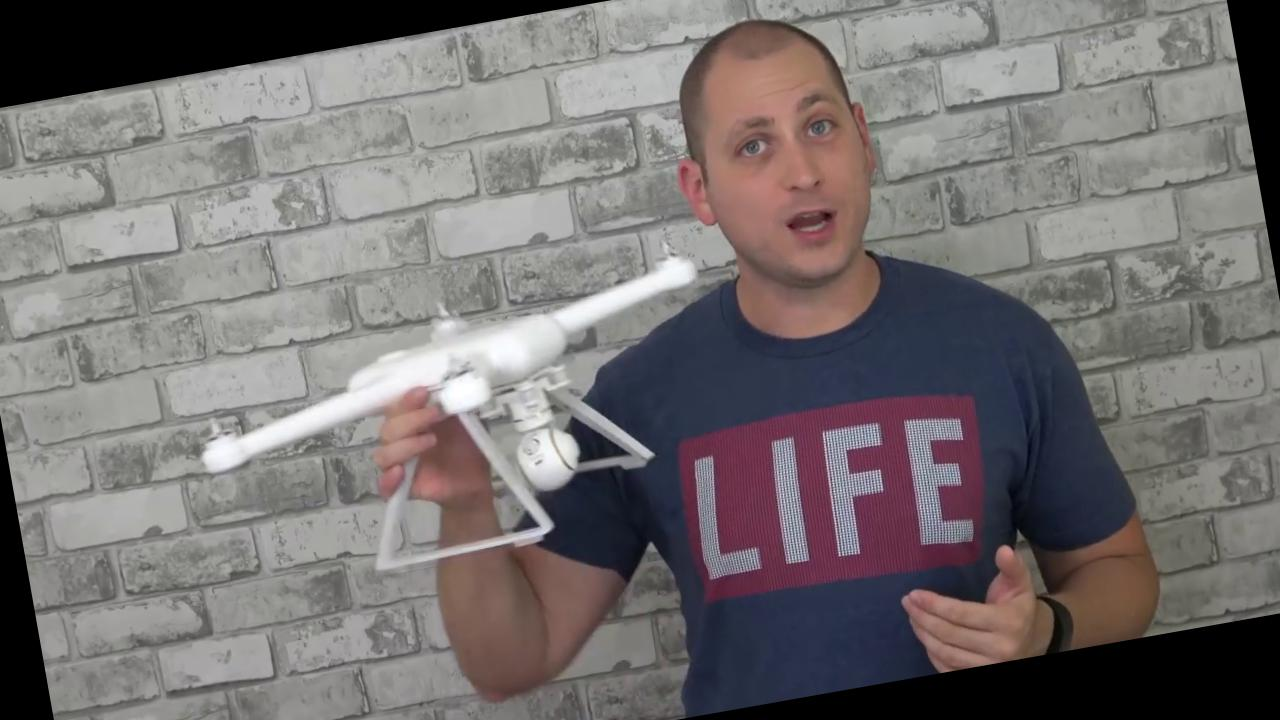drone: (168, 238, 726, 484)
